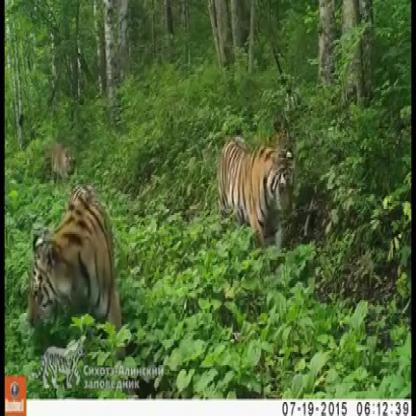Tiger: (30, 154, 129, 329), (207, 107, 306, 251), (42, 123, 82, 186)
